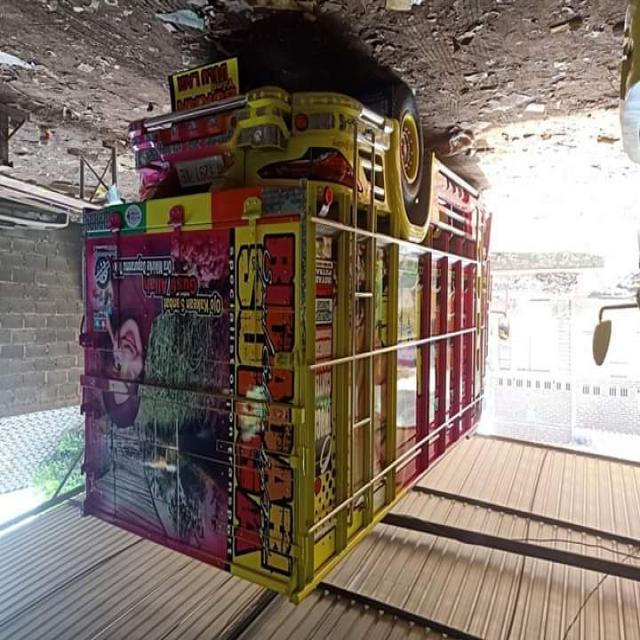truck: (82, 54, 510, 610)
